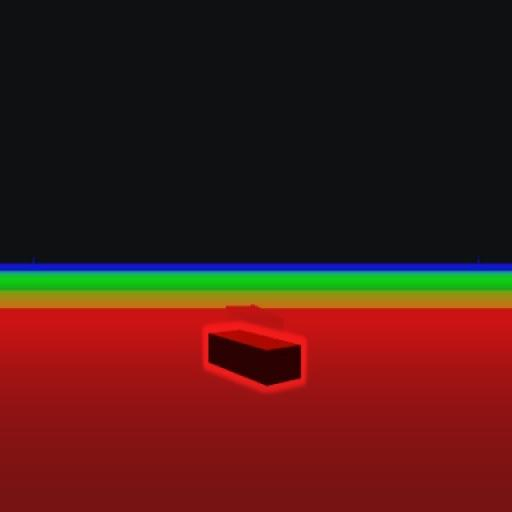debris_container: (206, 328, 302, 389)
